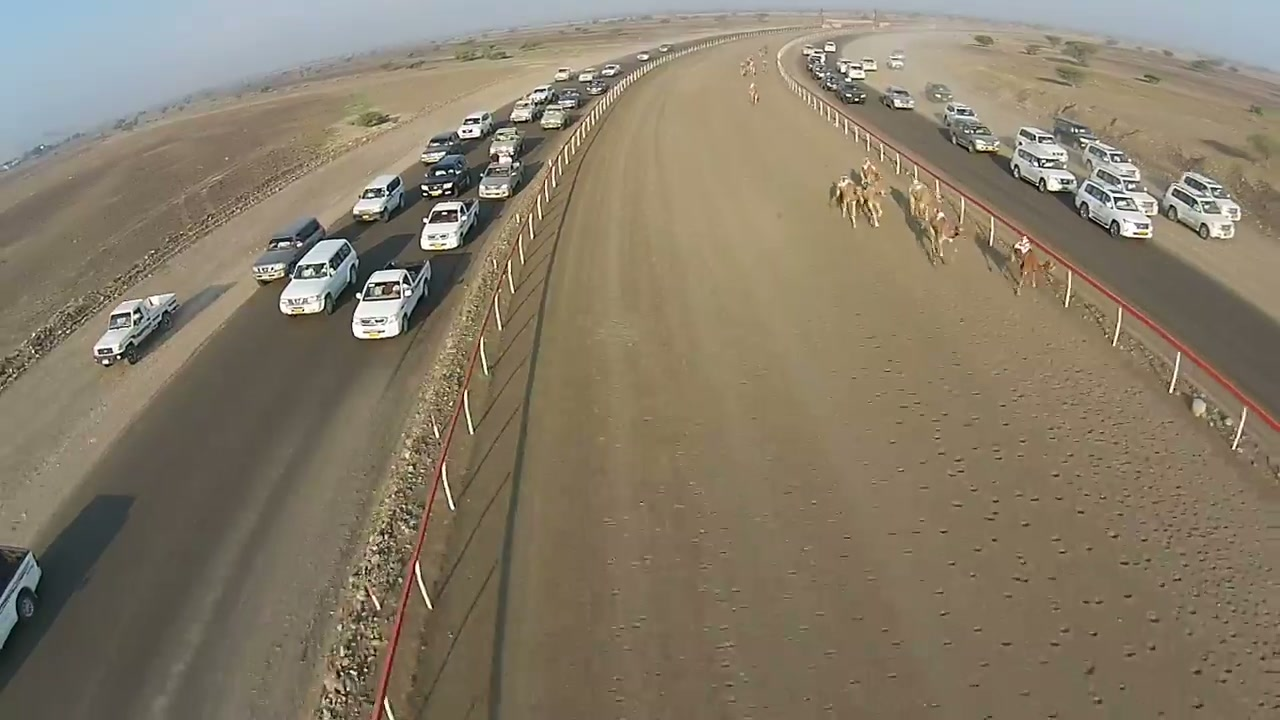animal_footprint: (870, 226, 1262, 704)
